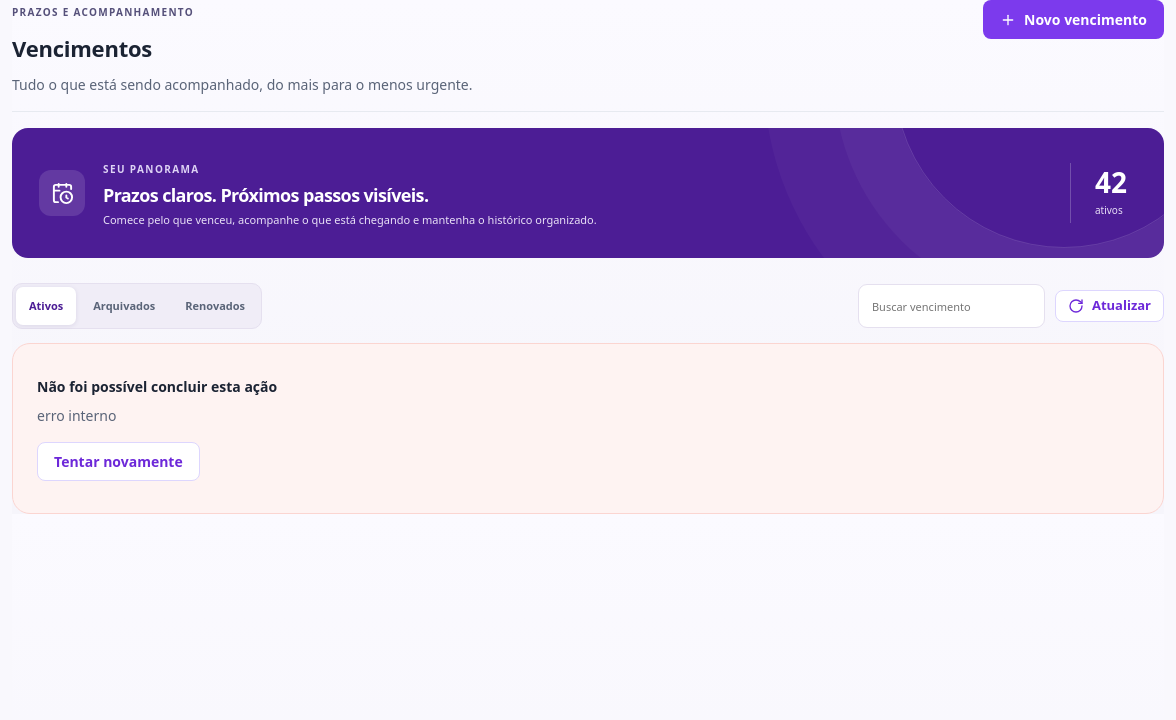
Scenario: ItemsCollection › a backend failure shows the error state with a working retry
Check: the message "Não foi possível concluir esta ação erro interno Tentar novamente" is shown, box left=12, top=343, right=1164, bottom=514
Click the button "Tentar novamente" at (118, 462), box left=37, top=442, right=200, bottom=481
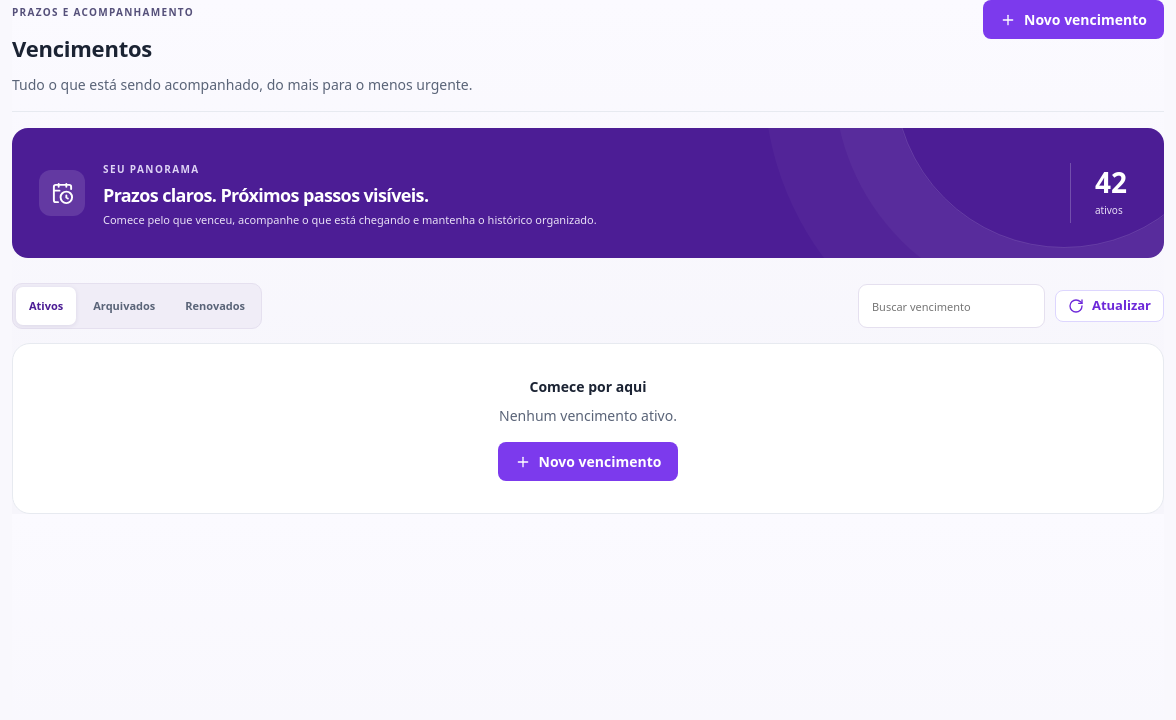
Check: the text "Nenhum vencimento ativo." is shown, box left=499, top=406, right=677, bottom=425
